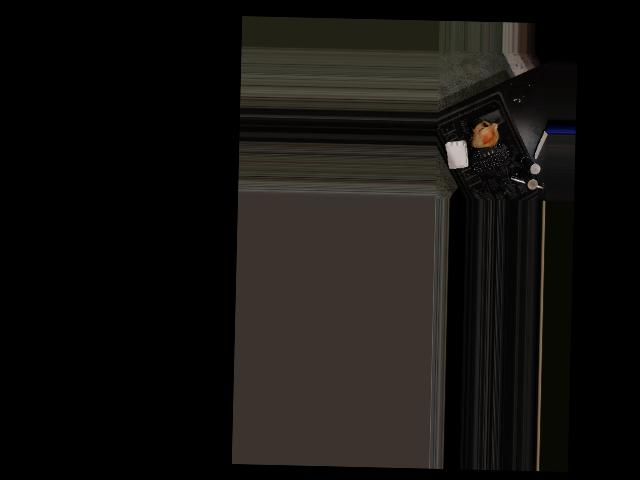onion: (470, 121, 500, 151)
